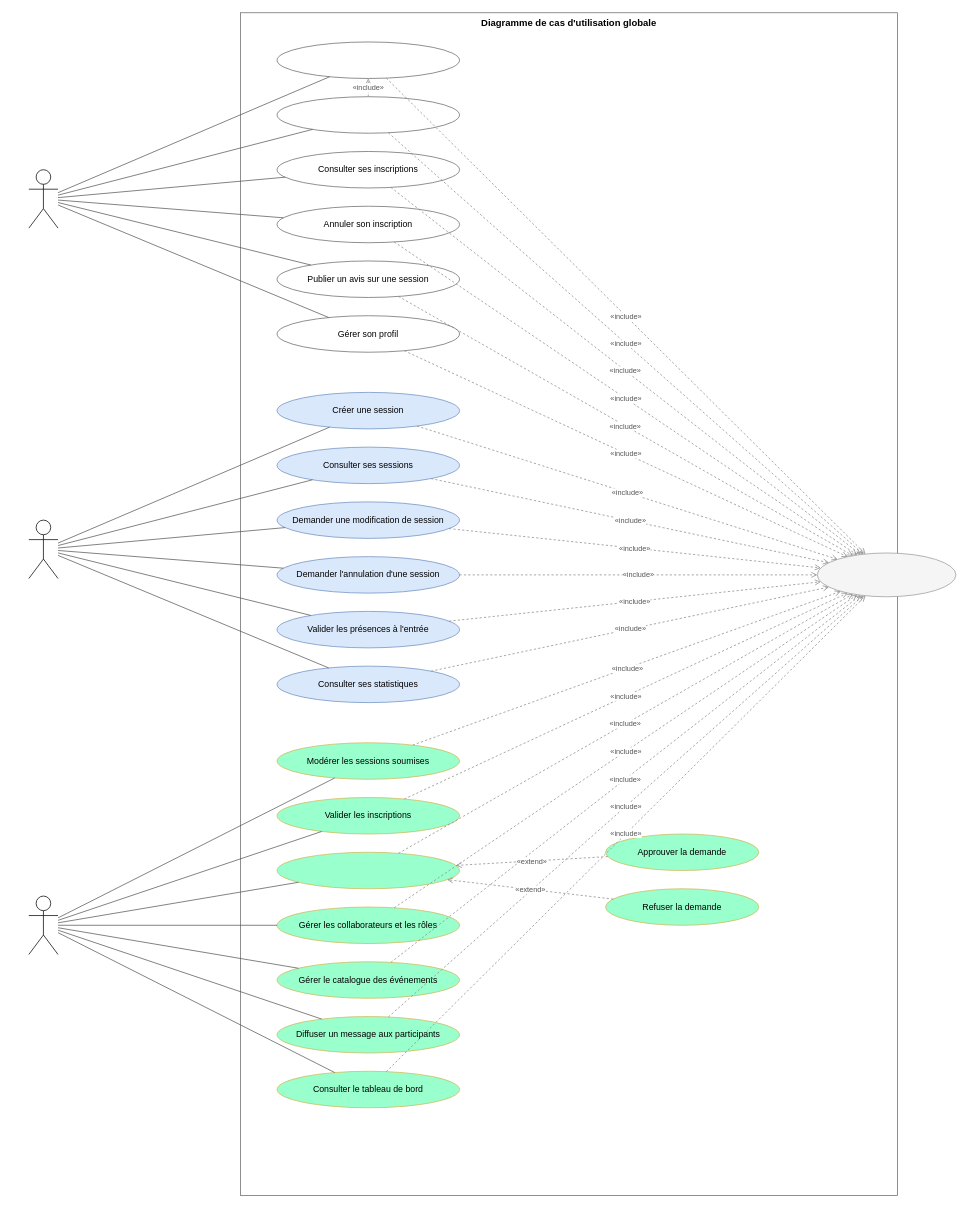
Some shapes in this 969 by 1208 pixel diagram are drawn without their labels. Each missing label, with the box of its shape:
Administrateur: (28, 895, 58, 954)
Consulter le catalogue: (276, 41, 460, 78)
Demander une inscription: (276, 96, 460, 133)
Formateur: (28, 519, 58, 579)
Participant: (28, 169, 58, 228)
S'authentifier: (817, 552, 956, 597)
Trancher les demandes des formateurs: (276, 852, 460, 889)
